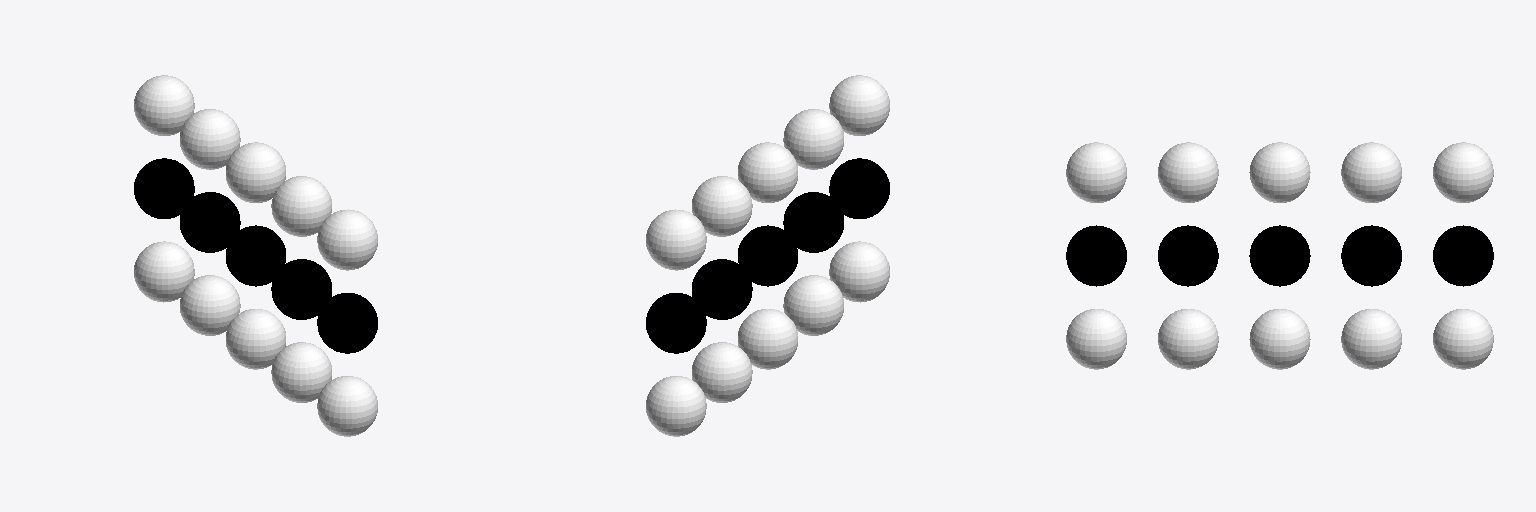
3 renders of one model, left to right at view 1: azimuth 30°, elevation 25°; view 2: azimuth 150°, elevation 25°; view 3: azimuth 270°, elevation 25°, orthographic.
Parts seen in each view (by area): view 1: Sphere.014, Sphere.009, Sphere, Sphere.004, Sphere.013, Sphere.008, Sphere.005, Sphere.011, Sphere.003, Sphere.010, Sphere.006, Sphere.001 (+3 smaller); view 2: Sphere.010, Sphere.008, Sphere.001, Sphere.003, Sphere.011, Sphere.009, Sphere.006, Sphere.013, Sphere.004, Sphere.014, Sphere.005, Sphere (+3 smaller); view 3: Sphere.009, Sphere.008, Sphere.010, Sphere.014, Sphere, Sphere.001, Sphere.006, Sphere.005, Sphere.011, Sphere.013, Sphere.003, Sphere.004 (+3 smaller).
Boxes of the visible parts, x1,y1,x2,y2 form: Sphere.014: [317, 376, 377, 436]; Sphere.009: [317, 209, 377, 270]; Sphere: [317, 293, 377, 353]; Sphere.004: [180, 192, 240, 252]; Sphere.013: [271, 342, 331, 402]; Sphere.008: [134, 75, 194, 135]; Sphere.005: [180, 109, 240, 169]; Sphere.011: [180, 275, 240, 335]; Sphere.003: [271, 259, 331, 319]; Sphere.010: [134, 241, 194, 302]; Sphere.006: [271, 176, 331, 236]; Sphere.001: [134, 158, 194, 218]; Sphere.010: [646, 376, 706, 436]; Sphere.008: [646, 209, 706, 270]; Sphere.001: [646, 293, 706, 353]; Sphere.003: [783, 192, 843, 252]; Sphere.011: [692, 342, 752, 402]; Sphere.009: [829, 75, 889, 135]; Sphere.006: [783, 109, 843, 169]; Sphere.013: [783, 275, 843, 335]; Sphere.004: [692, 259, 752, 319]; Sphere.014: [829, 241, 889, 302]; Sphere.005: [692, 176, 752, 236]; Sphere: [829, 158, 889, 218]; Sphere.009: [1066, 142, 1126, 202]; Sphere.008: [1433, 142, 1493, 202]; Sphere.010: [1433, 309, 1493, 369]; Sphere.014: [1066, 309, 1126, 369]; Sphere: [1066, 225, 1126, 286]; Sphere.001: [1433, 225, 1493, 286]; Sphere.006: [1158, 142, 1218, 202]; Sphere.005: [1341, 142, 1401, 202]; Sphere.011: [1341, 309, 1401, 369]; Sphere.013: [1158, 309, 1218, 369]; Sphere.003: [1158, 225, 1218, 286]; Sphere.004: [1341, 225, 1401, 286].
Bounding box in the file's own units: 0.2 × 0.8 × 1.4.
15 materials, 2 textured.